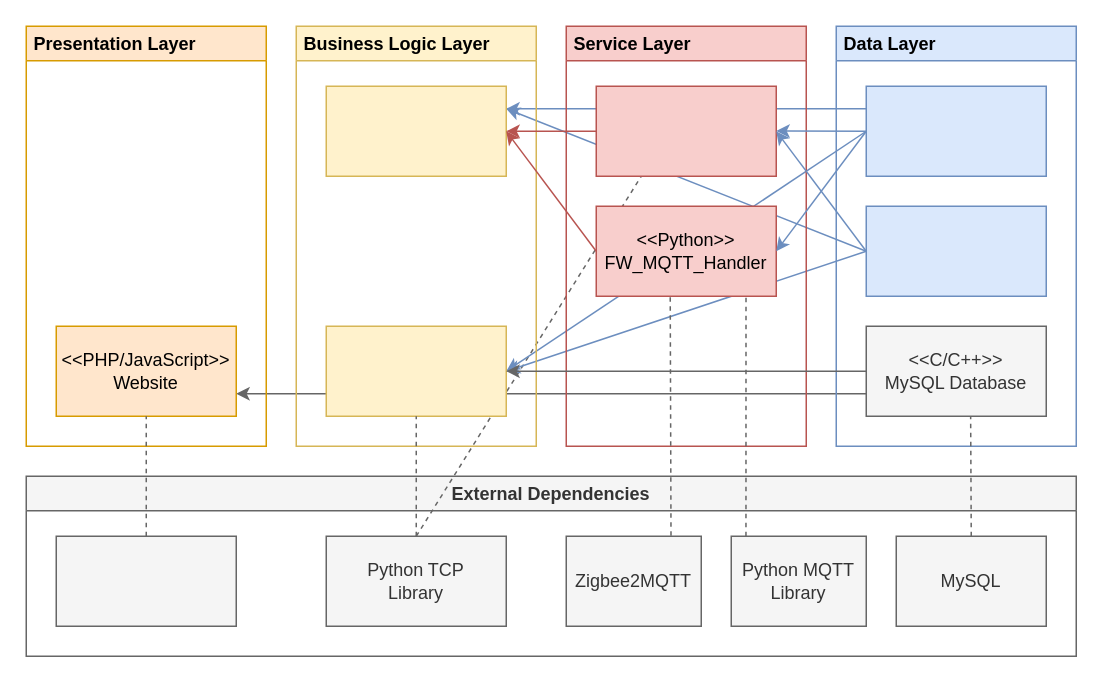
Image size: 1103x683. Some labels were removed from this diagram. Each missing label, with the centre of its shape:
"<<Python>> FW_Controller" goes at [415,130].
"<<Python>> FW_Datatypes" goes at [955,130].
"<<Python>> FW_TCP_Server" goes at [415,370].
"<<Python>> FW_Web_Client" goes at [685,130].
"<<Python>> HEUCOD Events" goes at [955,250].
"Apache HTTP Server" goes at [145,580].
